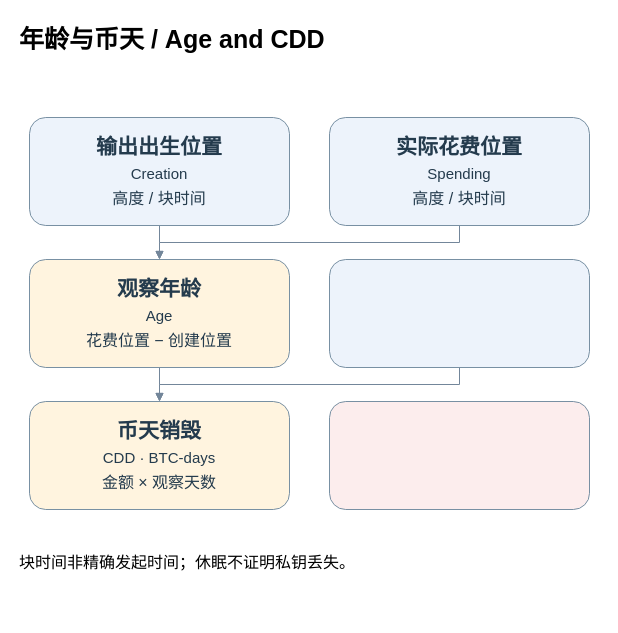
Some shapes in this 618 by 633 pixel diagram are drawn without their labels. The shapes that lost their labels are listed below. From the top down, each one's box as (x1, y1, x2, y2) in pixels, then its label:
(328, 258, 590, 368): 输入金额 Input Value · BTC 前序输出金额
(328, 400, 590, 510): 业务动机 Economic Motive 自转也会重置年龄
